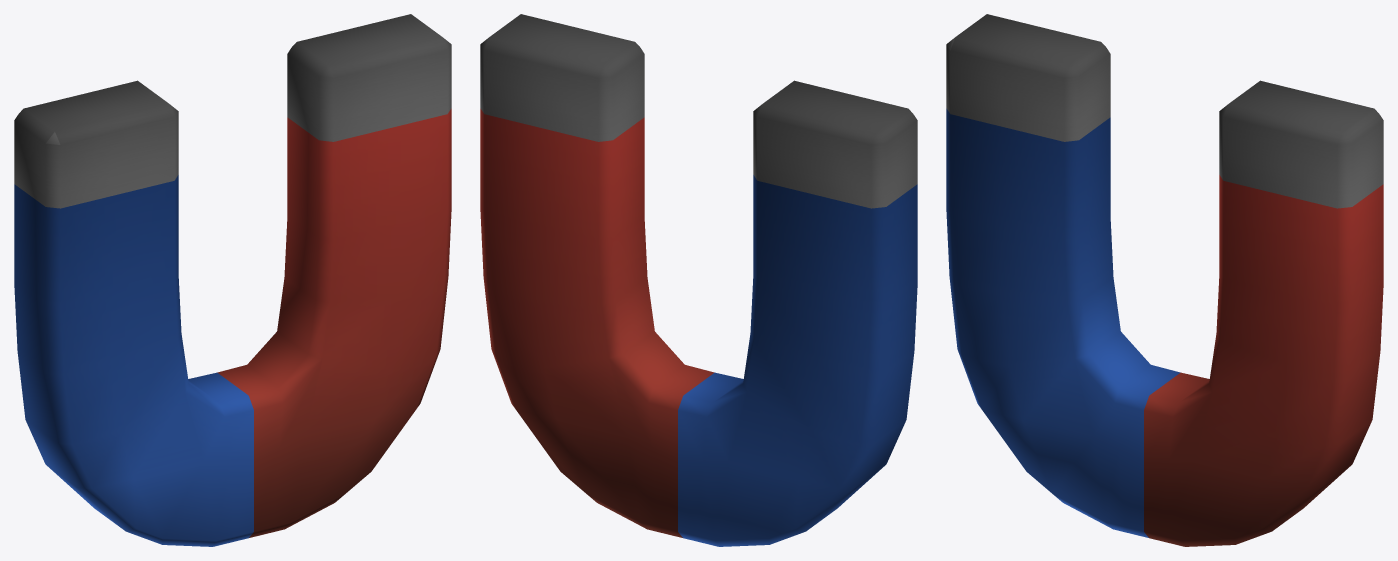
File: Magnet.fbx
The picture shows the model from 3 angles, left to right: view 1: azimuth 30°, elevation 25°; view 2: azimuth 150°, elevation 25°; view 3: azimuth 330°, elevation 25°; orthographic projection.
Visible parts, largest first — view 1: Magnet; view 2: Magnet; view 3: Magnet.
Part boxes in pixels (x1,y1,x2,y2): Magnet: (14, 14, 451, 546); Magnet: (480, 14, 917, 546); Magnet: (946, 14, 1383, 546).
Bounding box in the file's own units: 186 × 199 × 33.53.
